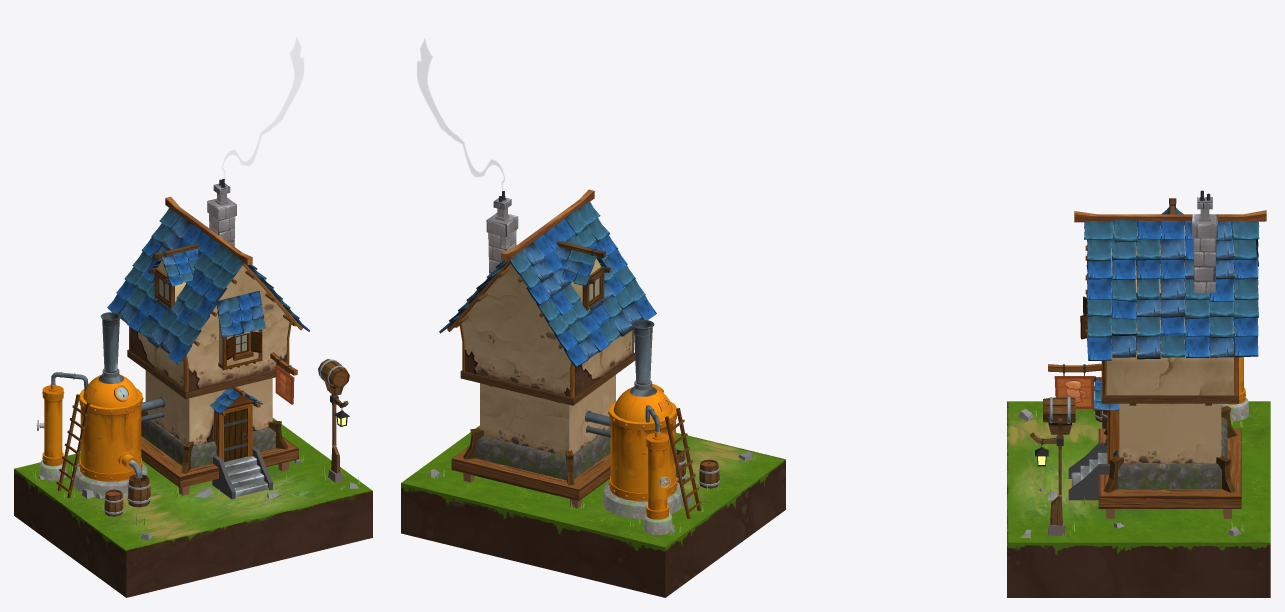
File: brewery.gltf
3 renders of one model, left to right at view 1: azimuth 30°, elevation 25°; view 2: azimuth 150°, elevation 25°; view 3: azimuth 270°, elevation 25°, orthographic. The views are drawn at different scales.
Parts seen in each view (by area): view 1: polySurface627, polySurface973, polySurface654, polySurface731, polySurface655, polySurface661, polySurface659, polySurface848, polySurface736, polySurface640, polySurface643, polySurface694 (+19 smaller); view 2: polySurface627, polySurface973, polySurface654, polySurface655, polySurface731, polySurface659, polySurface661, polySurface736, polySurface640, polySurface643, polySurface704, polySurface734 (+7 smaller); view 3: polySurface627, polySurface967, polySurface655, polySurface654, polySurface661, polySurface659, polySurface640, polySurface643, polySurface892, polySurface692, polySurface656, polySurface1023 (+1 smaller).
Boxes of the visible parts, x1,y1,x2,y2 form: polySurface627: (14,418,372,597); polySurface973: (107,208,243,364); polySurface654: (130,265,289,390); polySurface731: (79,388,142,481); polySurface655: (145,370,272,445); polySurface661: (141,436,298,487); polySurface659: (141,419,275,468); polySurface848: (216,291,265,337); polySurface736: (42,383,63,466); polySurface640: (207,183,236,246); polySurface643: (127,349,290,399); polySurface694: (224,456,267,497); polySurface627: (401,425,785,597); polySurface973: (509,201,656,367); polySurface654: (462,263,632,396); polySurface655: (480,375,615,455); polySurface731: (609,401,677,501); polySurface659: (476,427,610,480); polySurface661: (451,445,610,500); polySurface736: (646,431,668,519); polySurface640: (486,198,518,274); polySurface643: (460,352,635,405); polySurface704: (630,319,656,396); polySurface734: (613,387,672,422); polySurface627: (1007,401,1270,597); polySurface967: (1084,219,1259,360); polySurface655: (1119,403,1221,463); polySurface654: (1106,225,1234,395); polySurface661: (1098,428,1241,508); polySurface659: (1113,417,1227,488); polySurface640: (1192,197,1217,300); polySurface643: (1101,357,1238,403); polySurface892: (1074,210,1266,225); polySurface692: (1068,442,1109,500); polySurface656: (1103,406,1237,492); polySurface1023: (1054,376,1093,408).
Bounding box in the file's own units: 2.04 × 3.42 × 2.62.
65 materials, 45 textured.
